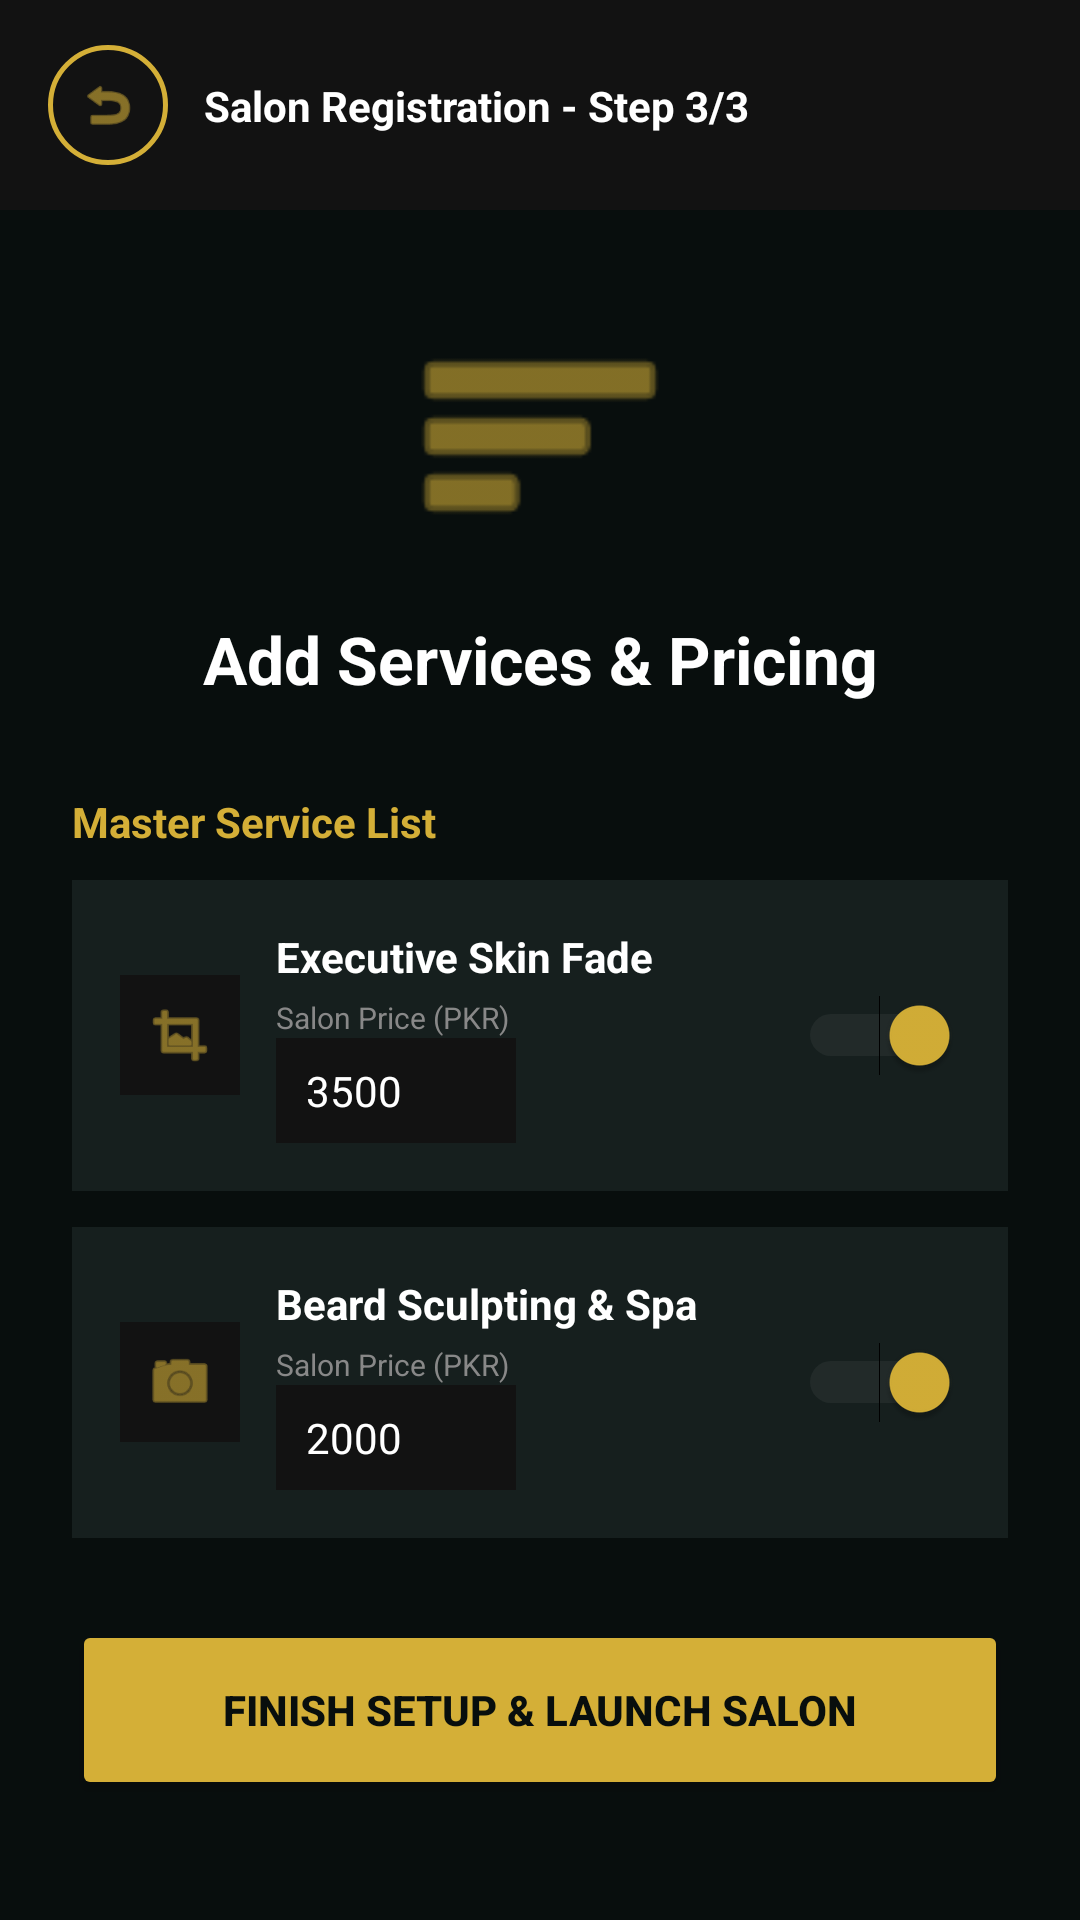

Named icons in this screenshot (1080 x 1920) and their centers, (x=x, y=y):
camera: (x=180, y=1381)
crop: (x=180, y=1035)
revert: (x=108, y=105)
sort by size: (x=540, y=436)
